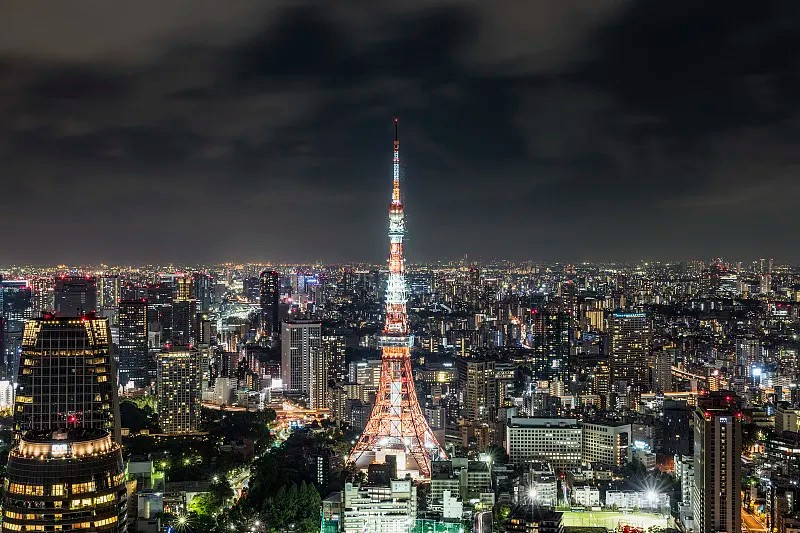Tokyo: (348, 116, 447, 479)
